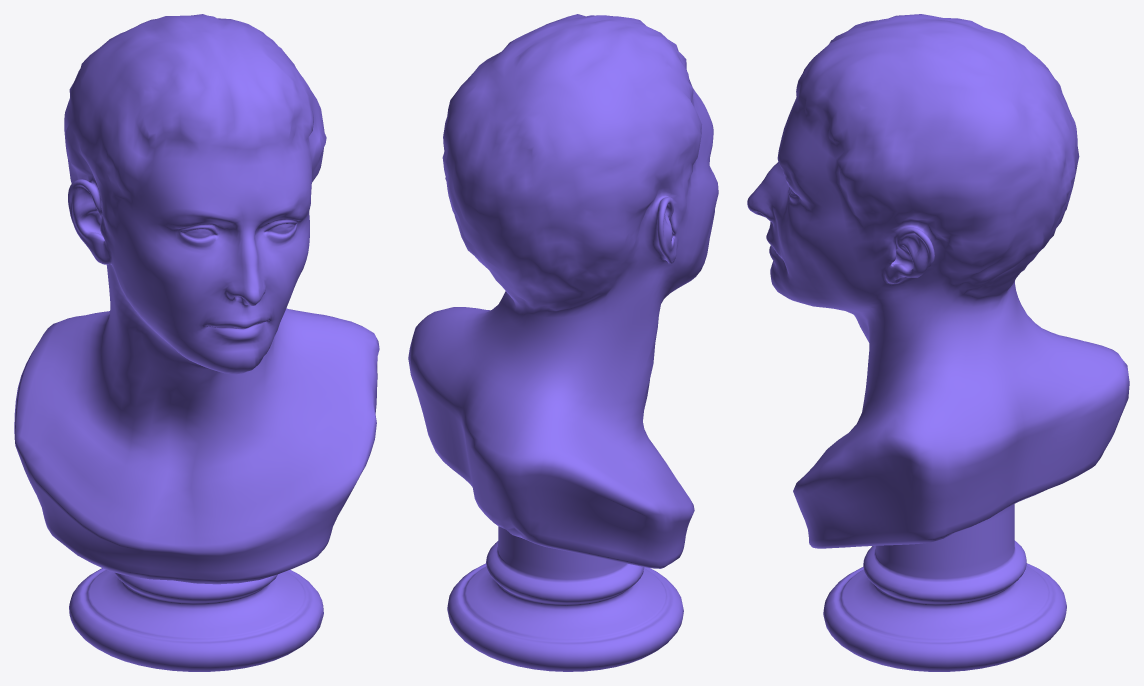
Rendered from marble-bust.glb.
3 renders of one model, left to right at view 1: azimuth 30°, elevation 25°; view 2: azimuth 150°, elevation 25°; view 3: azimuth 270°, elevation 25°, orthographic. The views are drawn at different scales.
Visible parts, largest first — view 1: marble_bust_01; view 2: marble_bust_01; view 3: marble_bust_01.
Boxes of the visible parts, x1,y1,x2,y2 form: marble_bust_01: (14,14,379,671); marble_bust_01: (408,14,718,671); marble_bust_01: (747,14,1129,671).
Size of the model in its own units: 0.2717 by 0.5149 by 0.2997.
